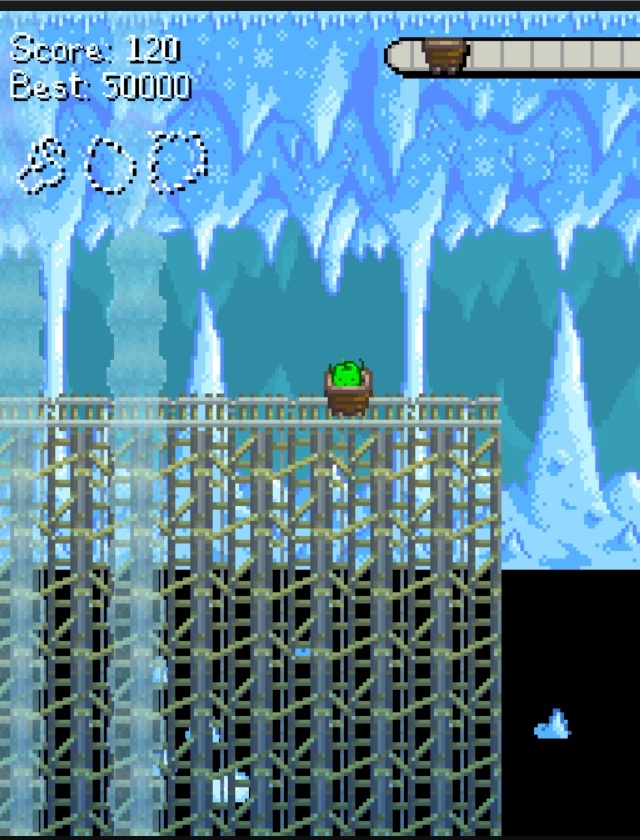minecart: (324, 360, 370, 414)
score: (124, 29, 183, 68)
tracks: (0, 388, 319, 437)
